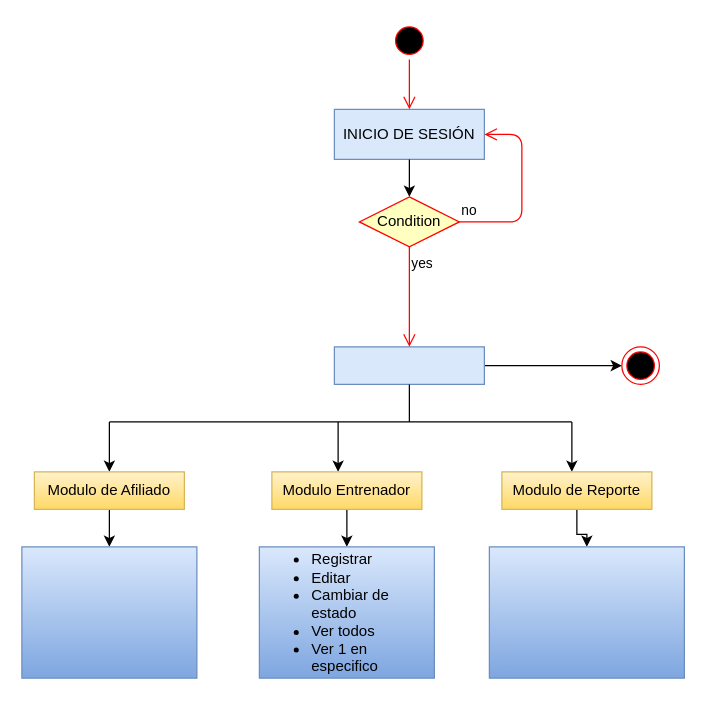
This 706x713 diagram has some shape labels left out. Each missing label, with the centre of its shape:
Mostrar todos los entrenadores Mostrar todos los afiliados: point (586, 612)
Página de Inicio: point (408, 365)
Registrar Editar Seleccionar entrenamiento: point (109, 612)
